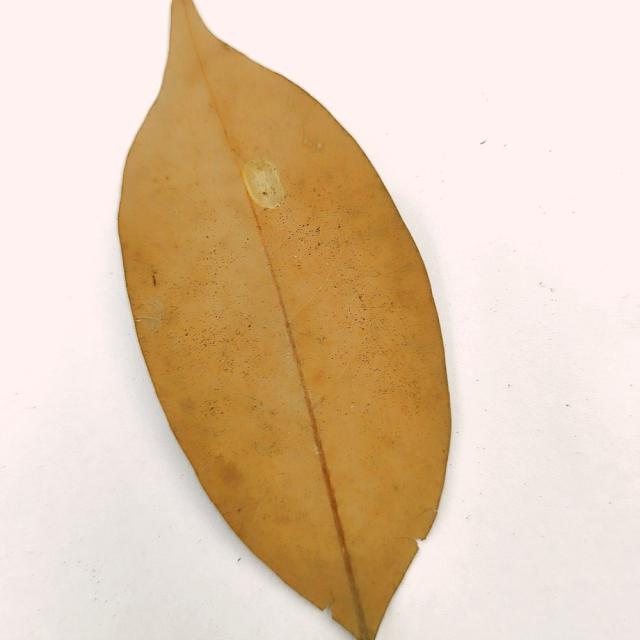Dry_Leaf-Lychee: (116, 0, 452, 639)
